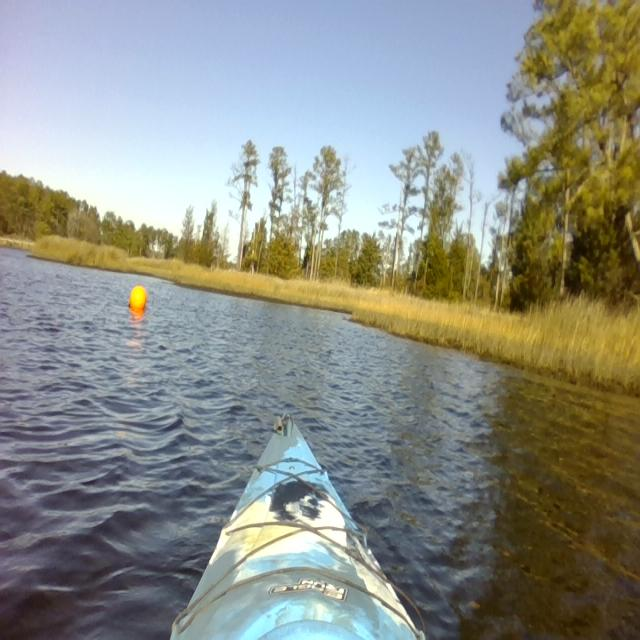Buoy: (125, 280, 152, 322)
